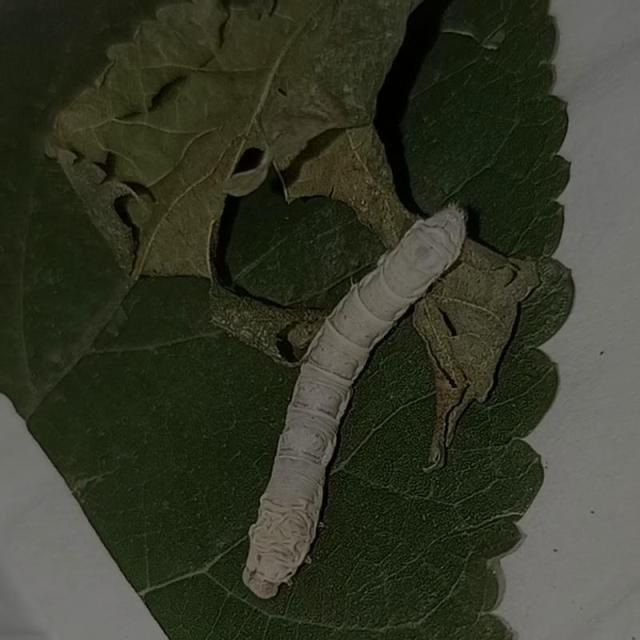Healthy: (231, 190, 477, 602)
